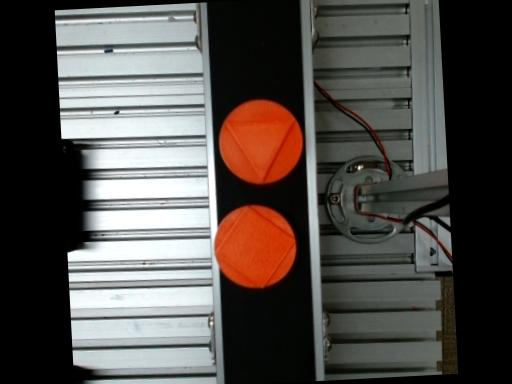Not_Square: (223, 117, 294, 182)
Orange_Waper: (218, 98, 302, 183), (214, 204, 295, 287)
Square: (212, 206, 295, 288)
